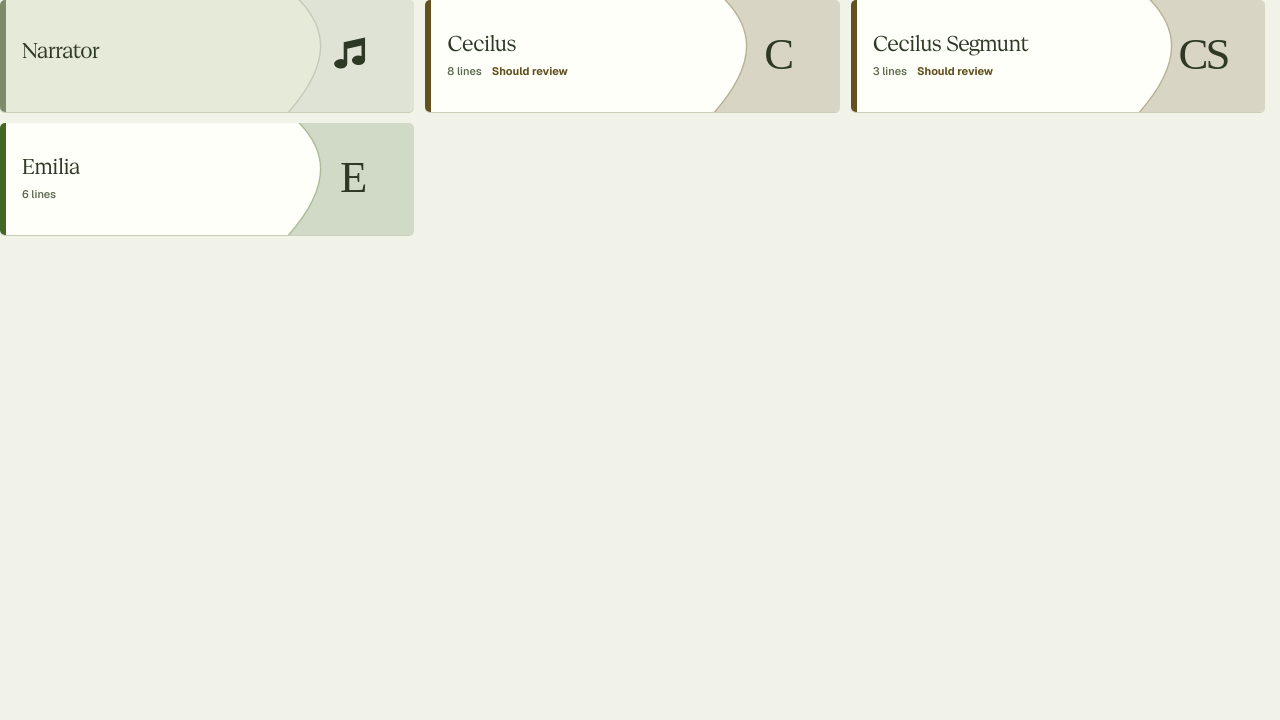
Test case: CastIdentityReview › keeps source passages intact while replacing technical generated explanations
Click the button with aria-label "Inspect Cecilus" at (482, 44), box x1=425 y1=0 x2=840 y2=112
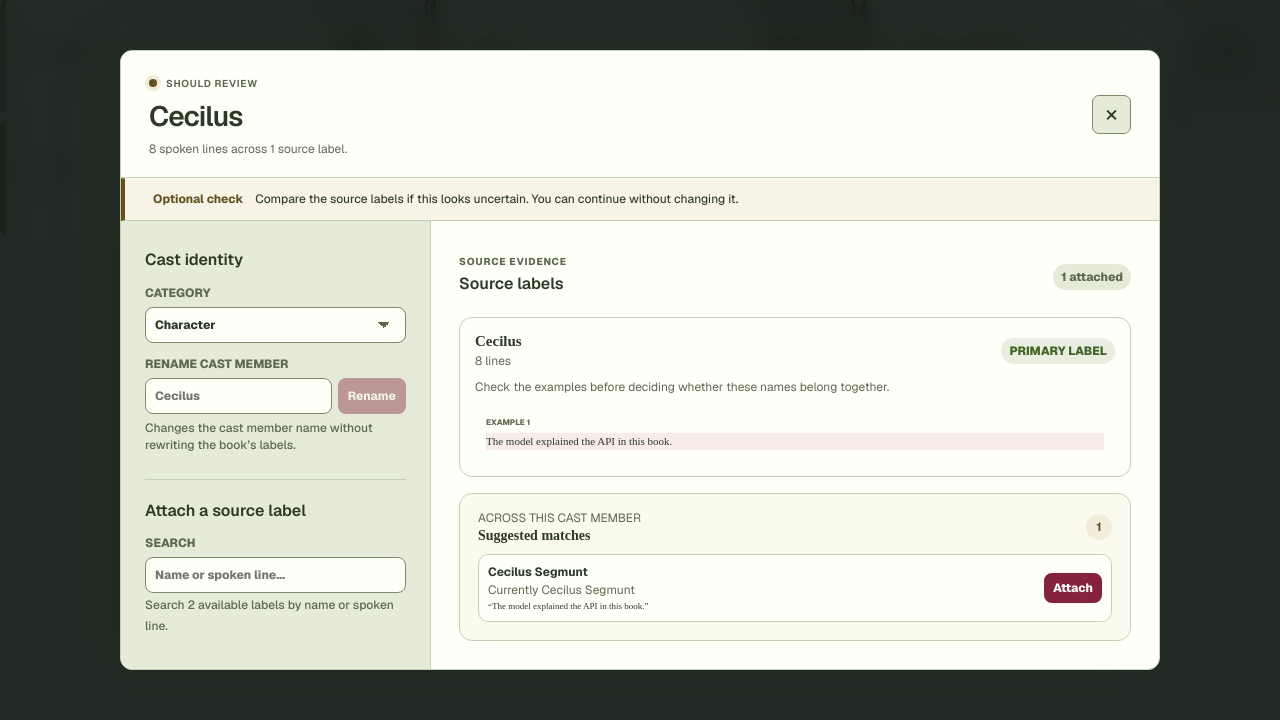
Expected: the dialog named "Inspect Cecilus" shows "Check the examples before deciding whether these names belong together.", x1=475 y1=379 x2=889 y2=395
Expected: the dialog named "Inspect Cecilus" shows "The model explained the API in this book.", x1=486 y1=435 x2=672 y2=447
